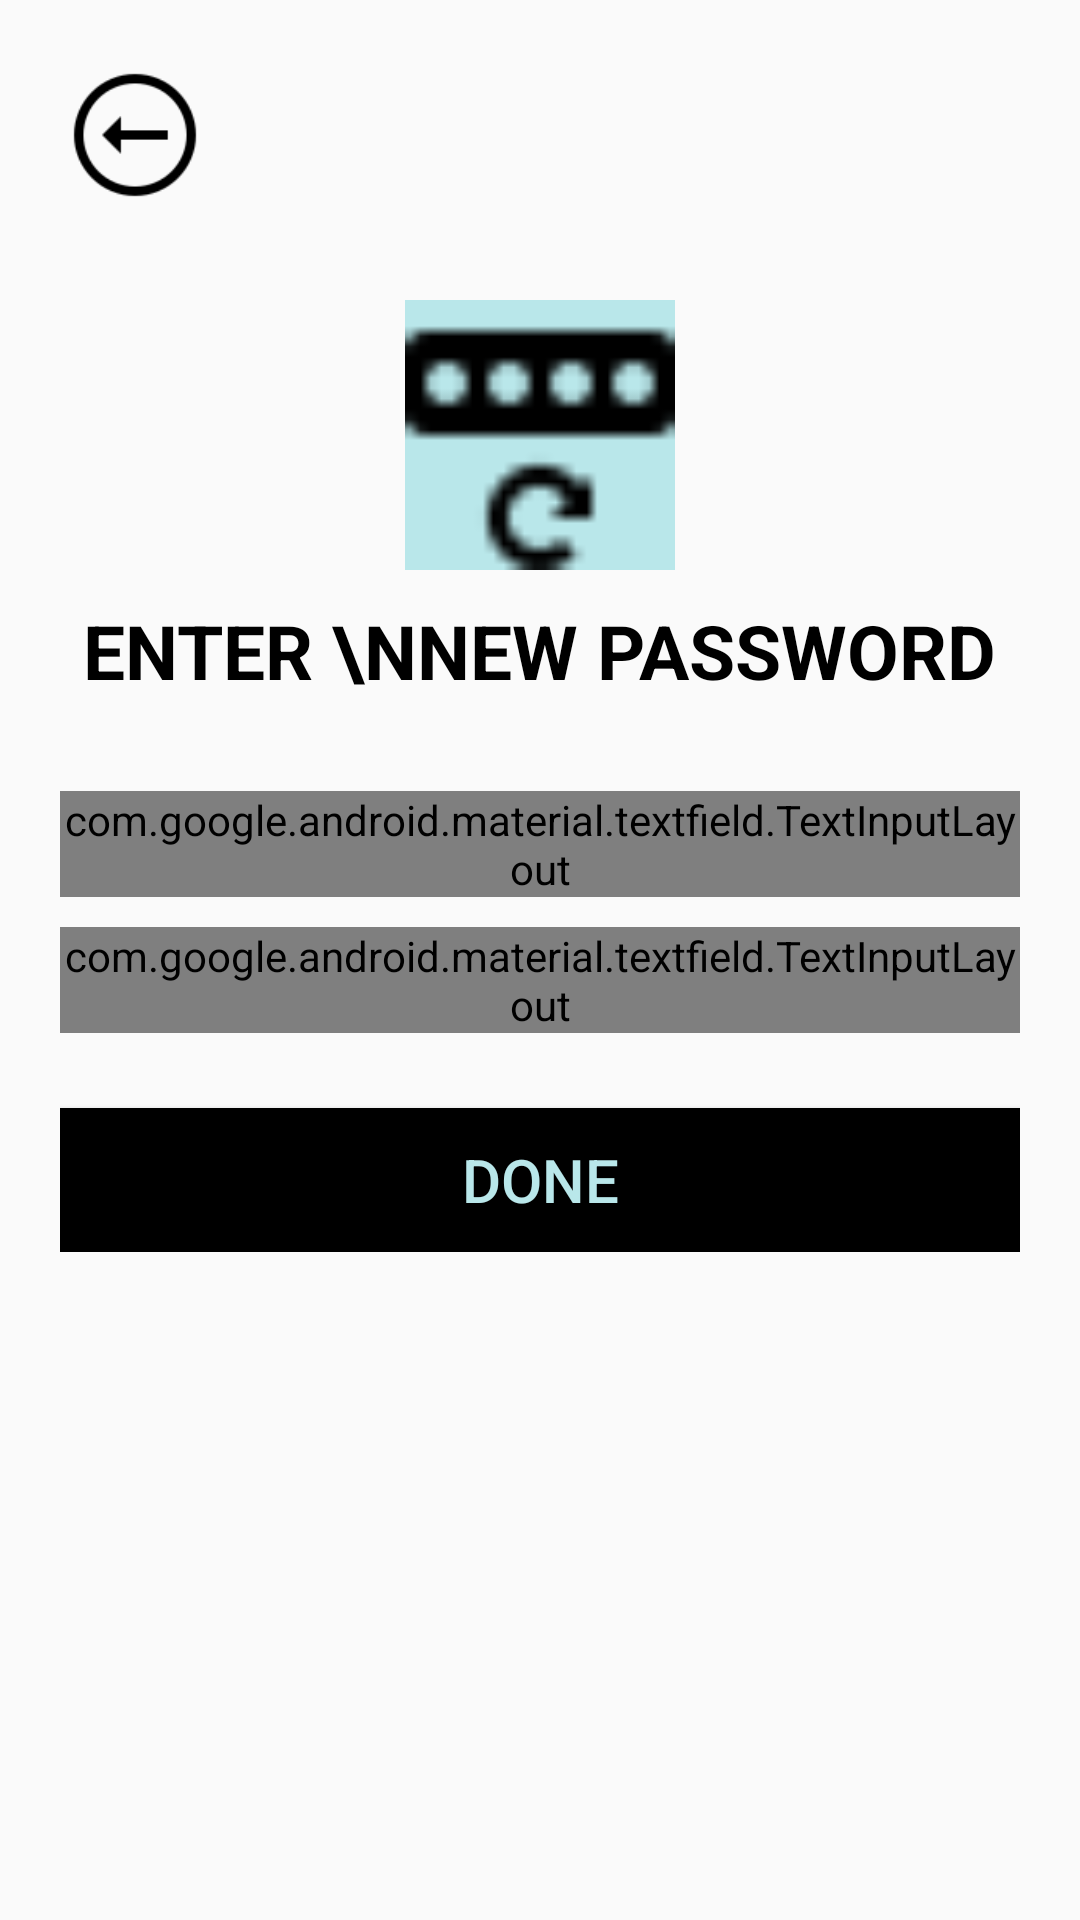

Screen size 1080 x 1920. Icon name, then its center in pixels as point (x, y):
iconbacknew: point (135, 135)
iconresetpass: point (540, 435)
